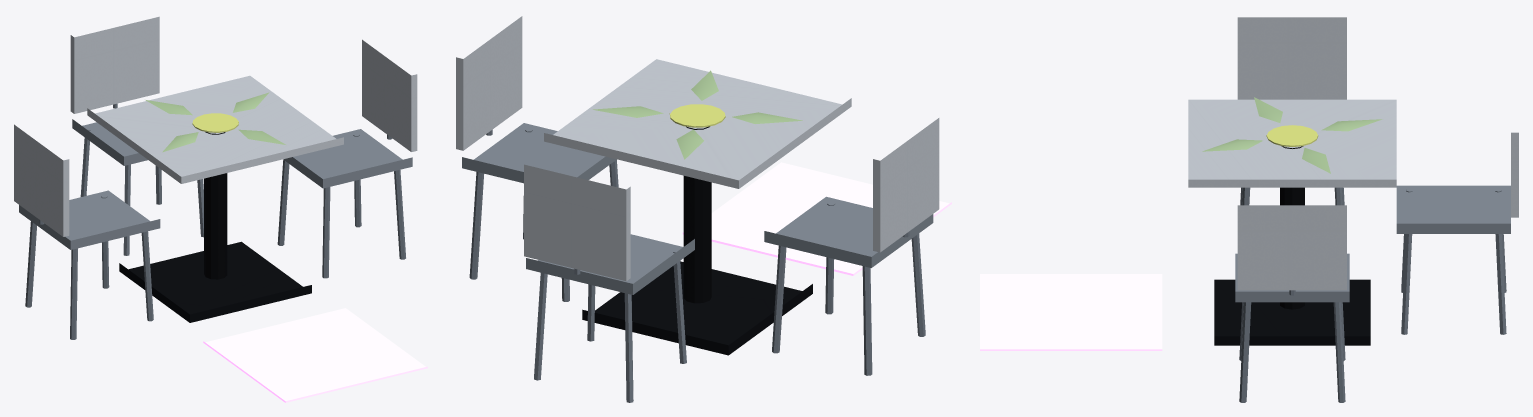
File: tt_food_table4_acc.glb
3 renders of one model, left to right at view 1: azimuth 30°, elevation 25°; view 2: azimuth 150°, elevation 25°; view 3: azimuth 270°, elevation 25°, orthographic. The views are drawn at different scales.
Visible parts, largest first — view 1: Chair_Back, Top, Acc_Floor_Marker, Chair_Seat, Base, Chair_Legs, Pedestal, Top_Leaf, Top_Ball; view 2: Chair_Back, Top, Chair_Seat, Base, Acc_Floor_Marker, Chair_Legs, Pedestal, Top_Leaf, Top_Ball; view 3: Chair_Back, Top, Acc_Floor_Marker, Chair_Seat, Base, Chair_Legs, Top_Leaf, Top_Ball, Pedestal.
Boxes of the visible parts, left/top/right/bottom form: Chair_Back: left=14, top=16, right=417, bottom=236; Top: left=87, top=75, right=343, bottom=183; Acc_Floor_Marker: left=203, top=308, right=427, bottom=402; Chair_Seat: left=19, top=119, right=412, bottom=249; Base: left=119, top=241, right=311, bottom=322; Chair_Legs: left=25, top=130, right=405, bottom=339; Pedestal: left=204, top=132, right=227, bottom=279; Top_Leaf: left=145, top=92, right=285, bottom=152; Top_Ball: left=192, top=113, right=238, bottom=132; Chair_Back: left=456, top=16, right=939, bottom=281; Top: left=544, top=59, right=851, bottom=188; Chair_Seat: left=462, top=123, right=933, bottom=294; Base: left=582, top=261, right=812, bottom=355; Acc_Floor_Marker: left=682, top=162, right=951, bottom=275; Chair_Legs: left=469, top=130, right=925, bottom=402; Pedestal: left=683, top=126, right=711, bottom=303; Top_Leaf: left=593, top=70, right=802, bottom=159; Top_Ball: left=669, top=104, right=725, bottom=127; Chair_Back: left=1237, top=17, right=1518, bottom=290; Top: left=1188, top=99, right=1396, bottom=187; Acc_Floor_Marker: left=980, top=274, right=1162, bottom=350; Chair_Seat: left=1235, top=185, right=1510, bottom=302; Base: left=1214, top=279, right=1370, bottom=345; Chair_Legs: left=1239, top=187, right=1506, bottom=402; Top_Leaf: left=1202, top=97, right=1382, bottom=173; Top_Ball: left=1266, top=125, right=1318, bottom=146; Pedestal: left=1280, top=146, right=1304, bottom=309.
Size of what is drawn, in the model's own units: 1.74 by 0.8608 by 2.07.
8 materials, 4 textured.
